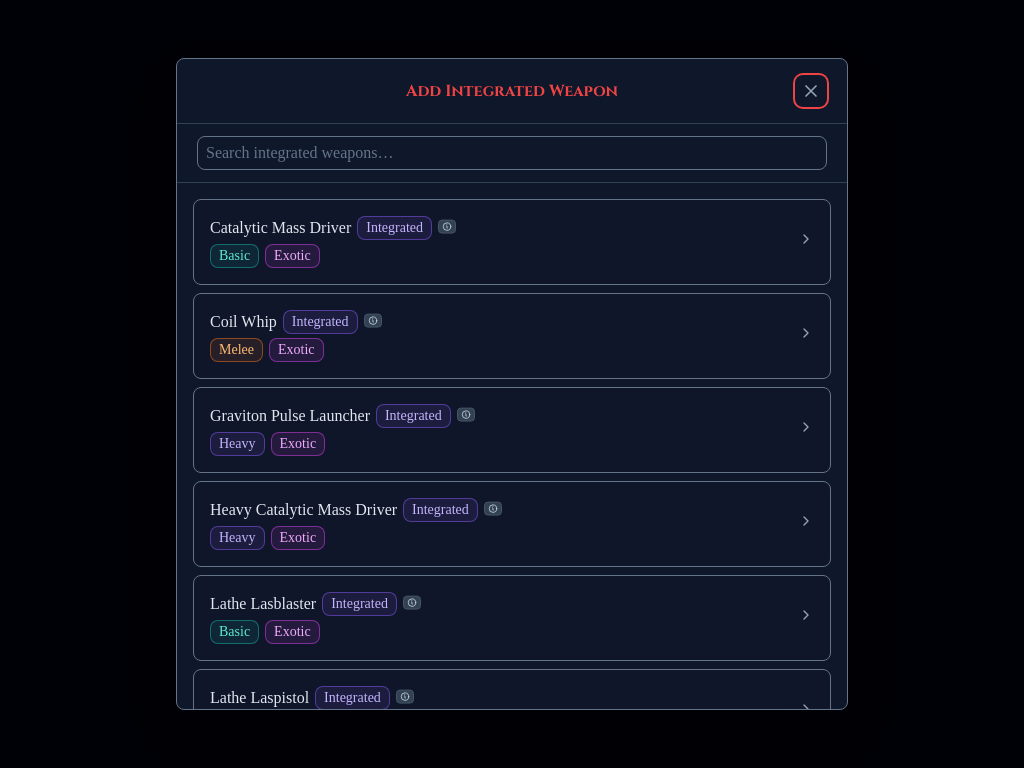
Test: IntegratedWeaponPicker craftsmanship description › shows the melee-specific description for an integrated melee weapon
Click the button named "Select Coil Whip" at (512, 336), box [194,294,830,378]
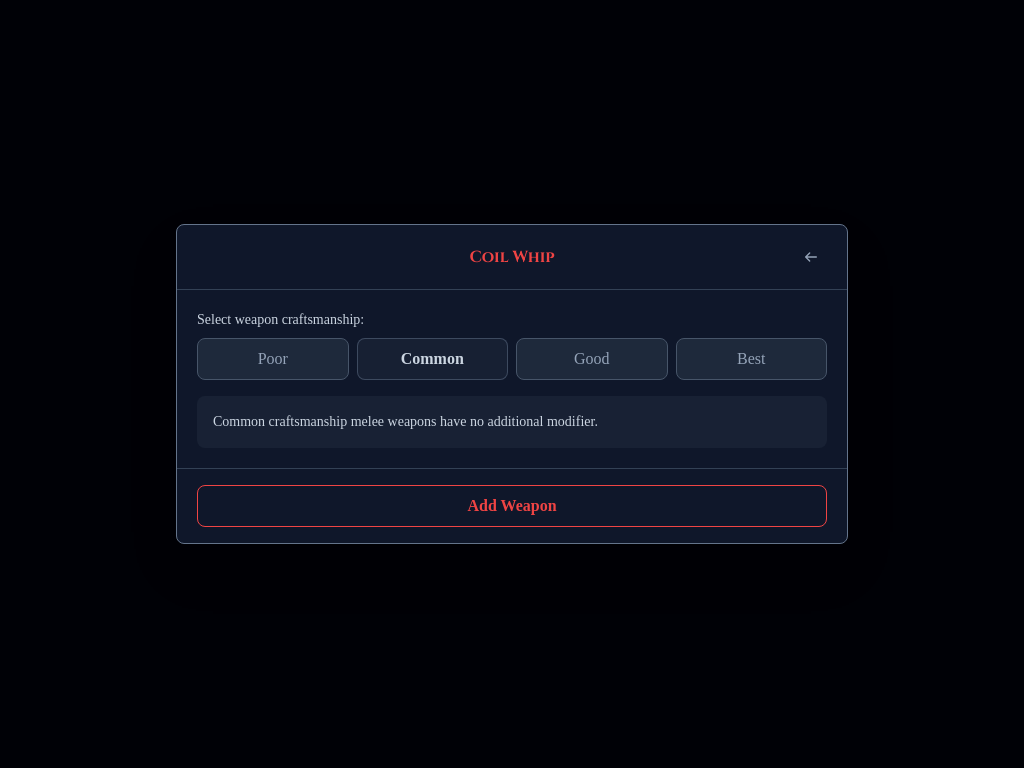
Expected: the text "Common craftsmanship melee weapons have no additional modifier" is shown, [213,414,598,429]
